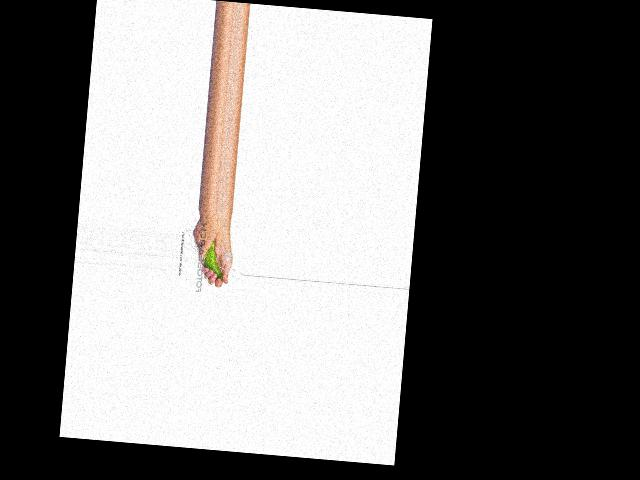cucumber: (201, 239, 225, 280)
